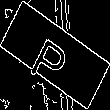P_NE: (31, 24, 79, 86)
